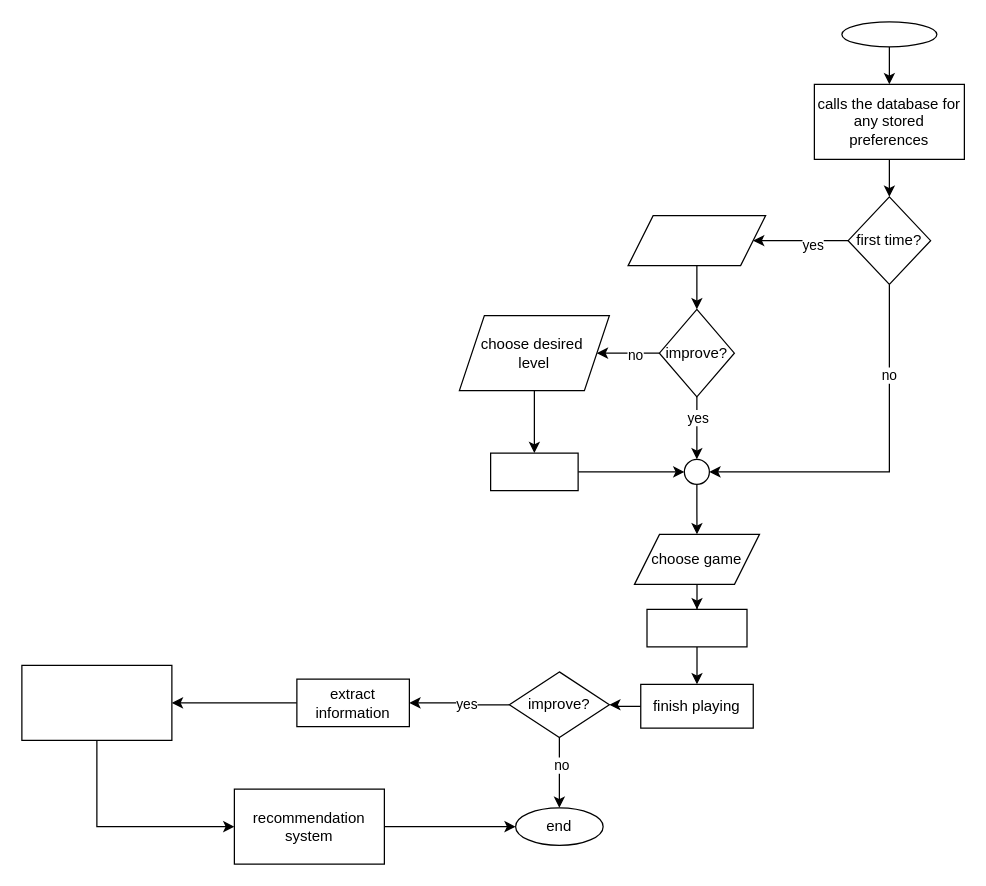
The diagram is 986 pixels wide and 886 high, and some of its shapes have lost their labels. Each missing label, with the centre of its shape:
"adaptive algorithm" goes at point 96,702.
"choose mode" goes at point 696,240.
"play" goes at point 696,627.
"start" goes at point 889,34.
"store it" goes at point 533,471.
